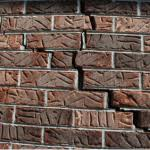stairstep_crack: (3, 30, 149, 139), (78, 0, 97, 50)
